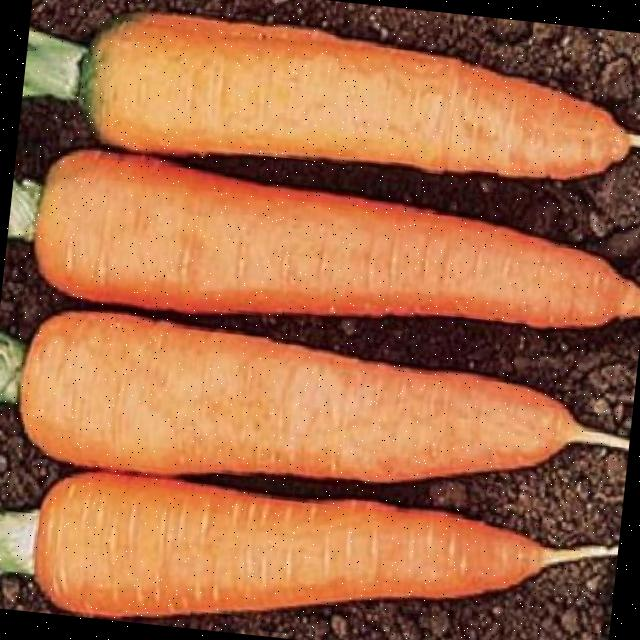carrot: (7, 149, 640, 327), (0, 311, 629, 481), (23, 12, 640, 178), (0, 471, 618, 616)
